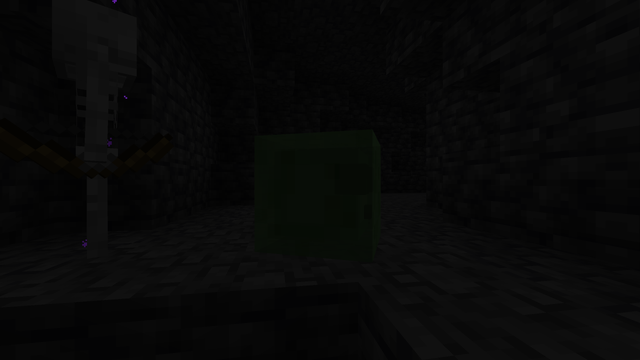slimes: (271, 124, 398, 261)
squelettes: (21, 0, 151, 265)
